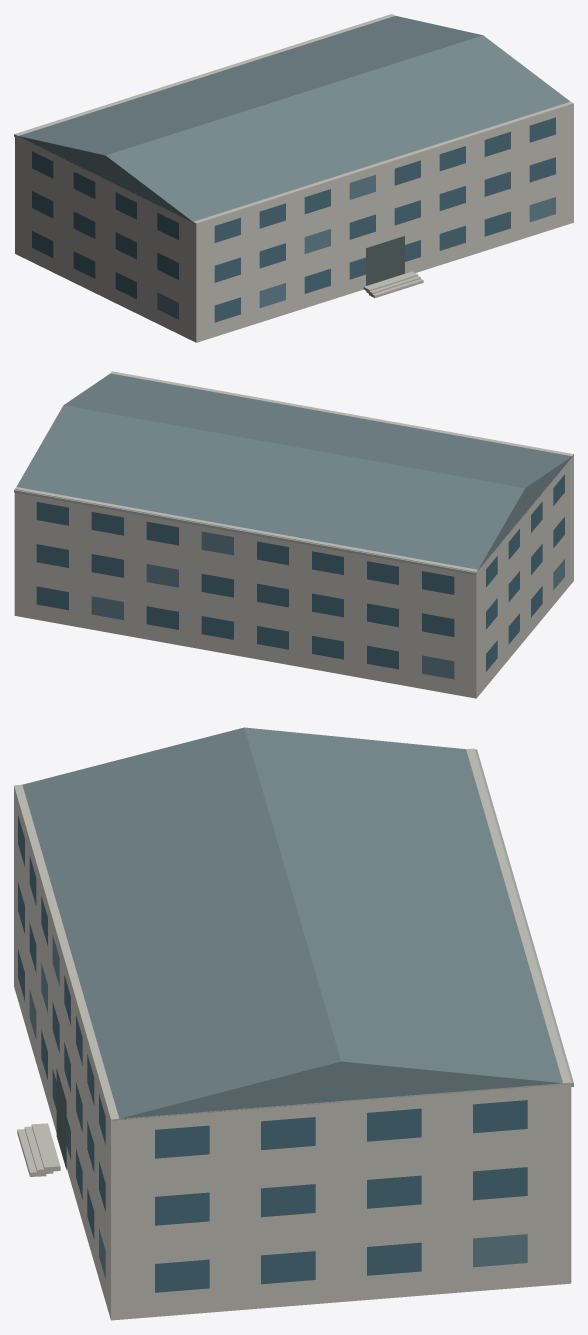
File: 核心区东侧-018.glb
3 renders of one model, top to bottom at view 1: azimuth 30°, elevation 25°; view 2: azimuth 150°, elevation 25°; view 3: azimuth 270°, elevation 25°, orthographic. The views are drawn at different scales.
Parts seen in each view (by area): view 1: 核心区东侧-018; view 2: 核心区东侧-018; view 3: 核心区东侧-018.
Boxes of the visible parts, left/top/right/bottom form: 核心区东侧-018: left=14, top=14, right=573, bottom=342; 核心区东侧-018: left=14, top=371, right=573, bottom=698; 核心区东侧-018: left=14, top=727, right=573, bottom=1320.
Size of the model in its own units: 42.72 by 12.92 by 27.25.
